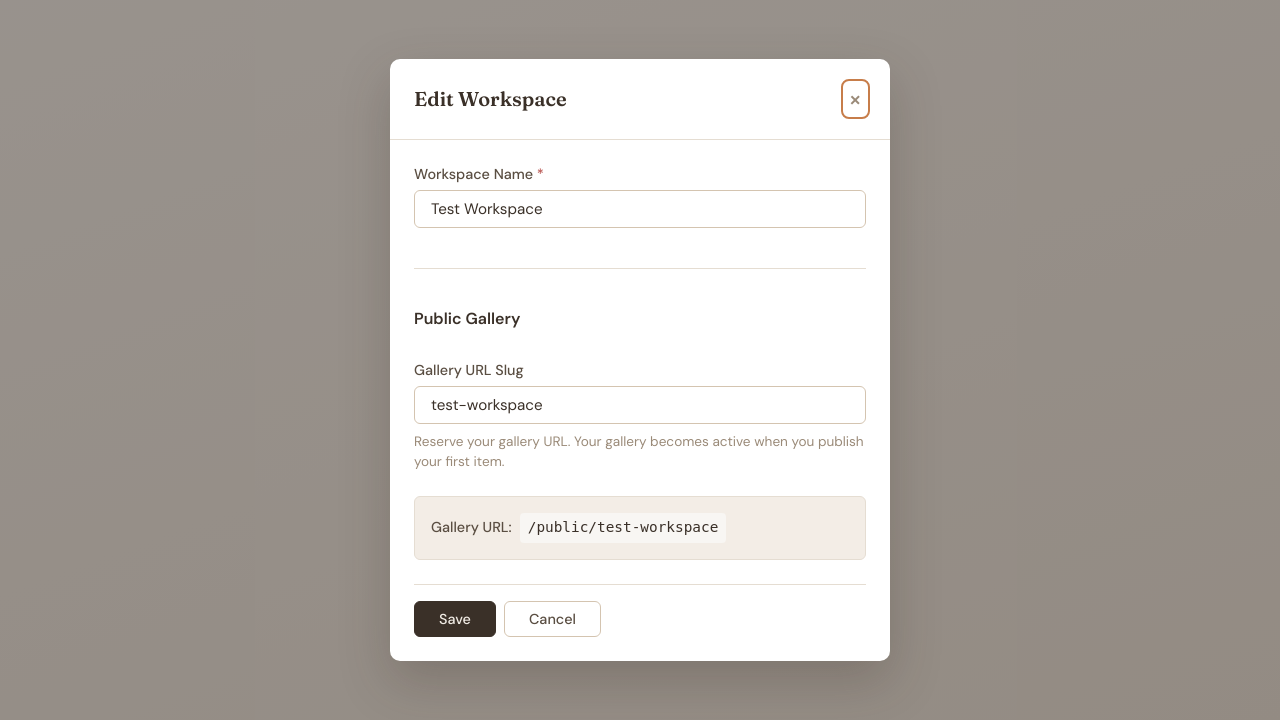
Test: WorkspaceEditModal › slug validation › should only allow lowercase letters, numbers, and hyphens in slug
Clear the field labelled "Gallery URL Slug" at (640, 404), box x1=414 y1=386 x2=866 y2=424
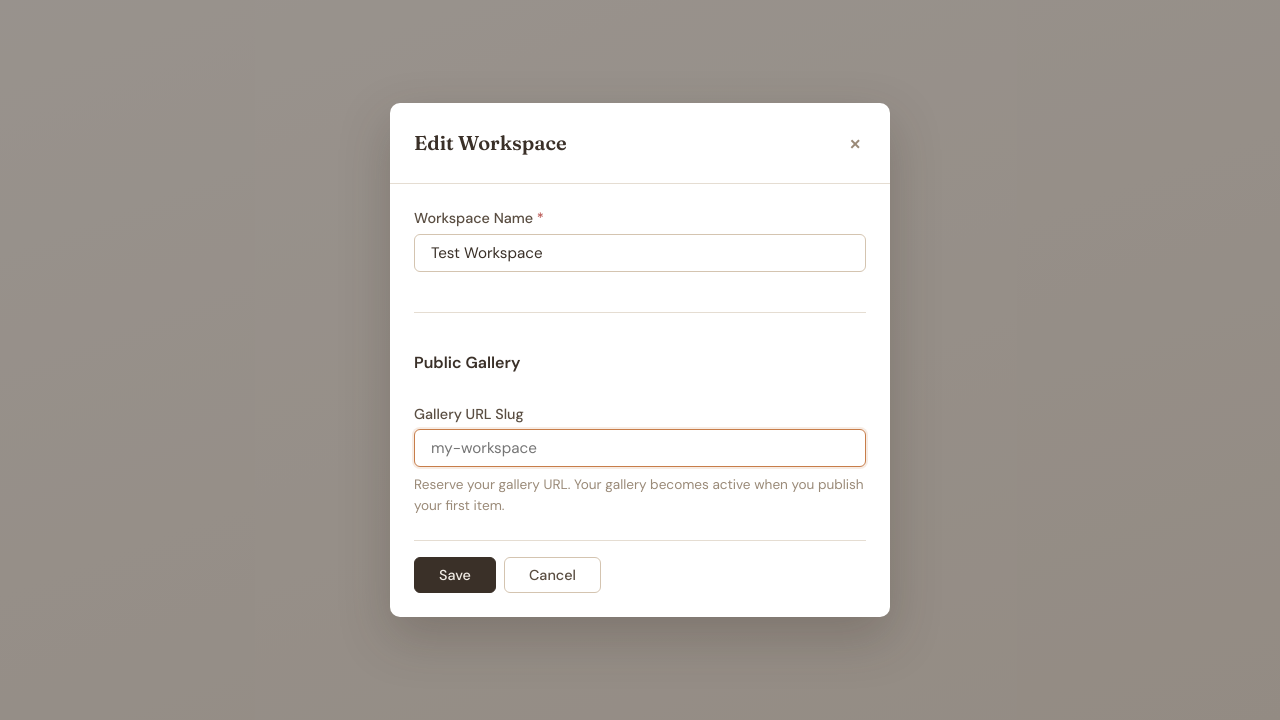
Type "My Slug!@#" into the field labelled "Gallery URL Slug" at (640, 448), box x1=414 y1=429 x2=866 y2=467
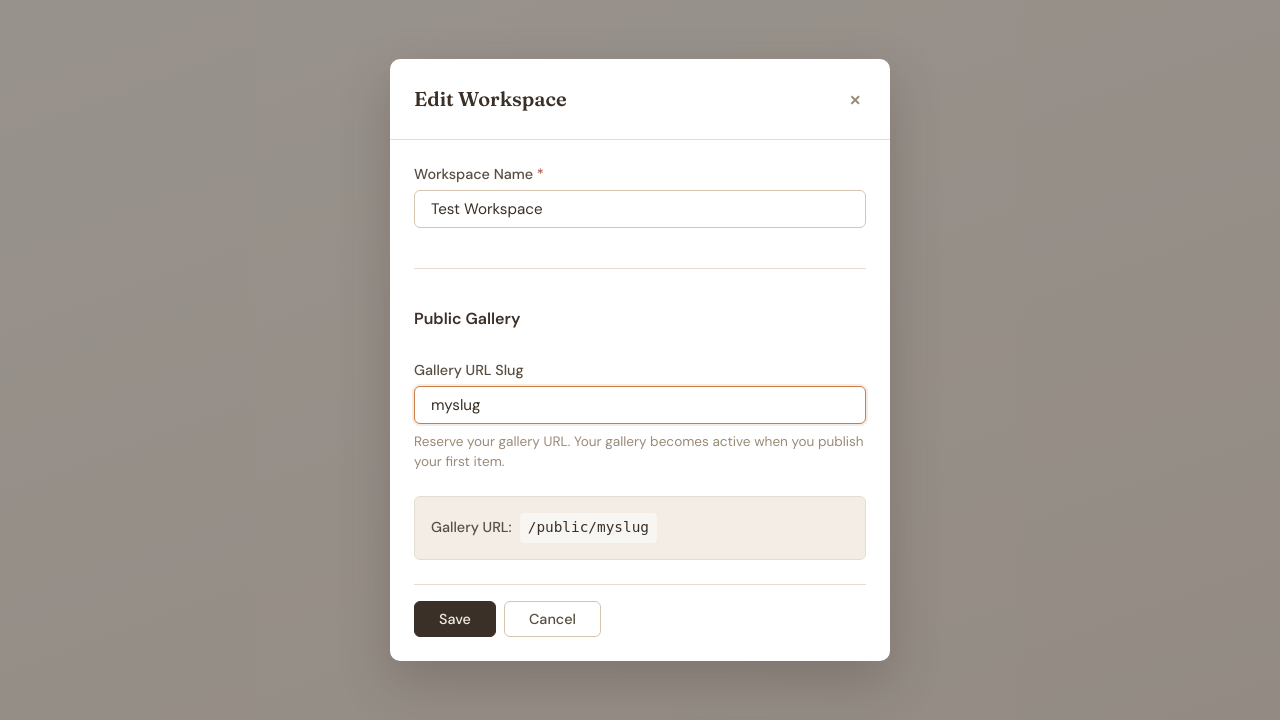
Expected: the field labelled "Gallery URL Slug" holds "myslug", x1=414 y1=386 x2=866 y2=424
